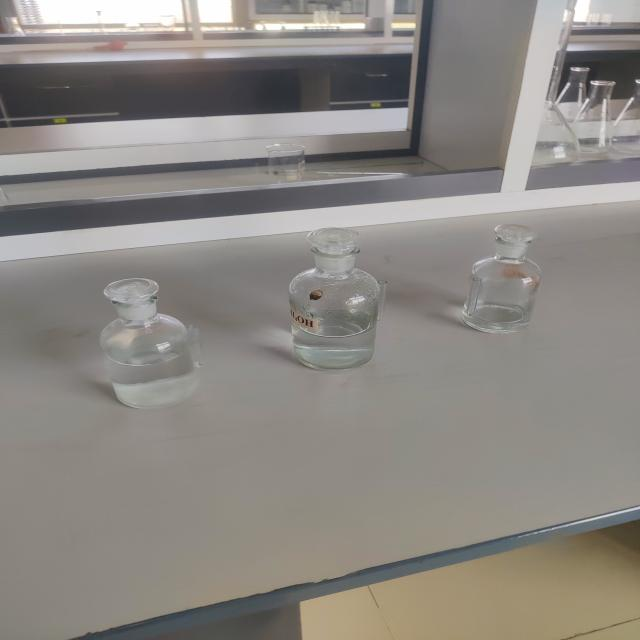Reagent_Bottle: (56, 255, 241, 437), (436, 198, 580, 356), (270, 220, 394, 386)
